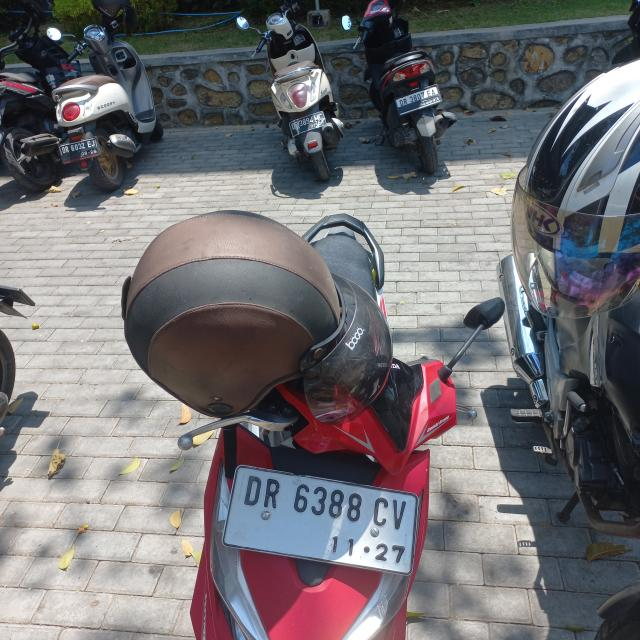plate: (221, 462, 420, 578), (395, 85, 442, 116), (288, 109, 328, 137), (59, 137, 100, 162)
